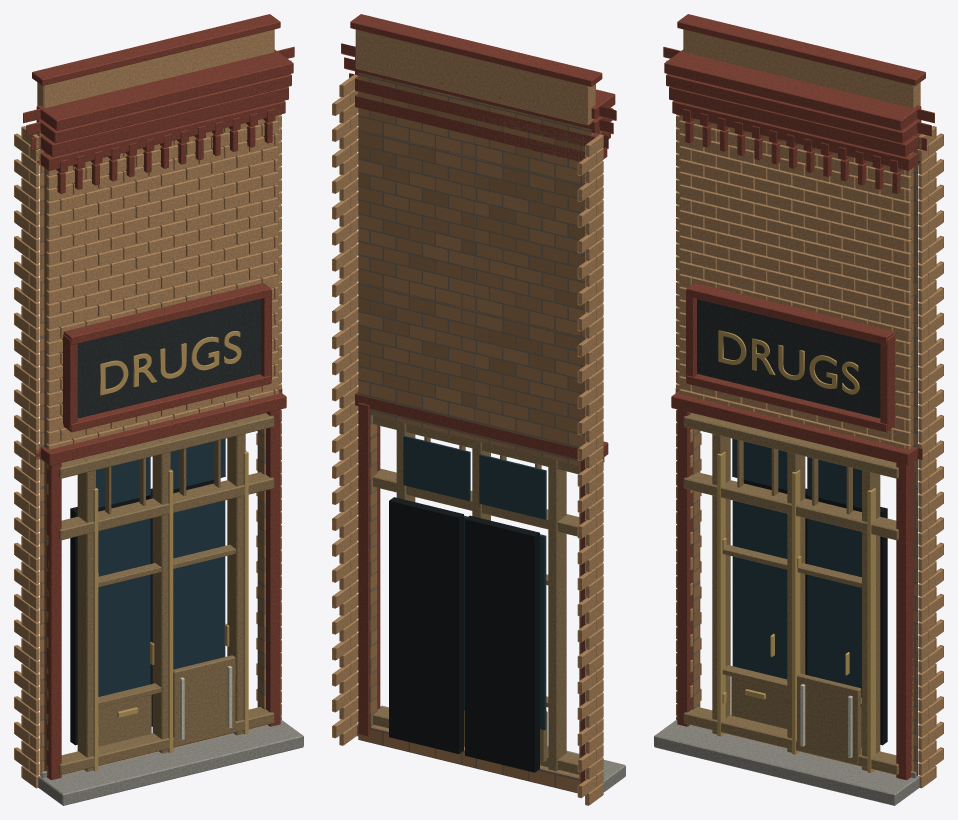
The model's file is BUSS5_lod0.glb.
The picture shows the model from 3 angles, left to right: view 1: azimuth 30°, elevation 25°; view 2: azimuth 150°, elevation 25°; view 3: azimuth 330°, elevation 25°; orthographic projection.
Visible parts, largest first — view 1: BUSS5_FRONT_LOD0; view 2: BUSS5_FRONT_LOD0; view 3: BUSS5_FRONT_LOD0.
Boxes of the visible parts, x1,y1,x2,y2 form: BUSS5_FRONT_LOD0: [14, 14, 303, 805]; BUSS5_FRONT_LOD0: [332, 14, 625, 805]; BUSS5_FRONT_LOD0: [654, 14, 943, 805].
Bounding box in the file's own units: 3.78 × 9.44 × 1.12.
14 materials, 11 textured.
